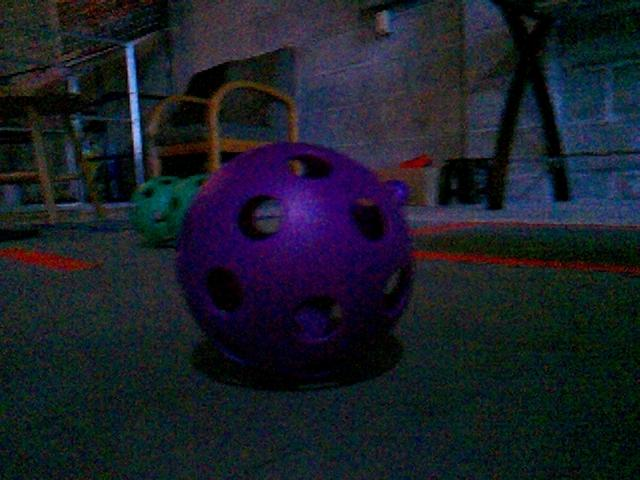Green: (130, 177, 193, 249), (192, 173, 214, 188)
Purple: (173, 145, 417, 383), (386, 178, 409, 205)
